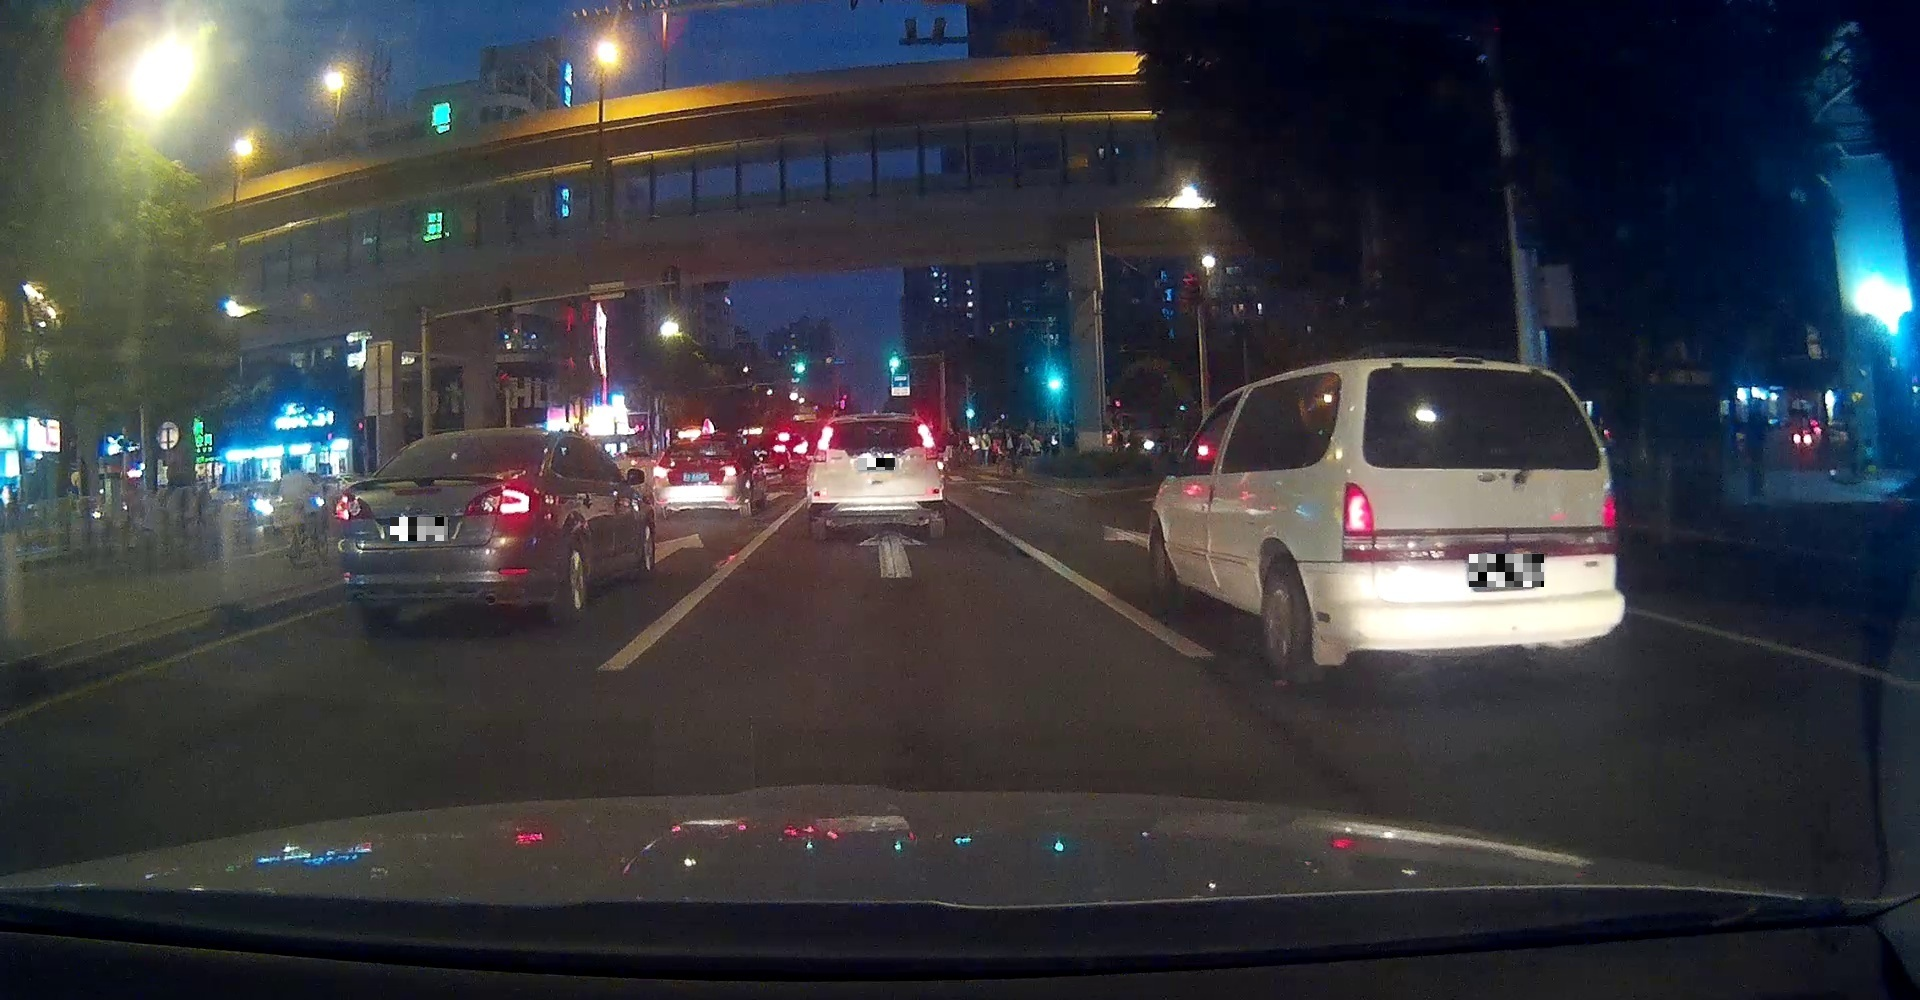L_light: (1343, 484, 1375, 536), (335, 492, 372, 522), (651, 466, 673, 478), (811, 449, 827, 463)
R_light: (463, 484, 530, 515), (1603, 491, 1618, 530), (719, 464, 738, 477), (924, 447, 940, 459)
T_light: (1474, 369, 1498, 377), (474, 437, 497, 443), (871, 421, 886, 426), (702, 442, 715, 447)
night-no: (1338, 357, 1625, 679), (335, 428, 551, 626), (806, 412, 945, 539), (651, 433, 742, 518)
plate_1: (390, 516, 448, 541)
plate_2: (858, 458, 895, 470)
plate_3: (1469, 555, 1544, 588)
